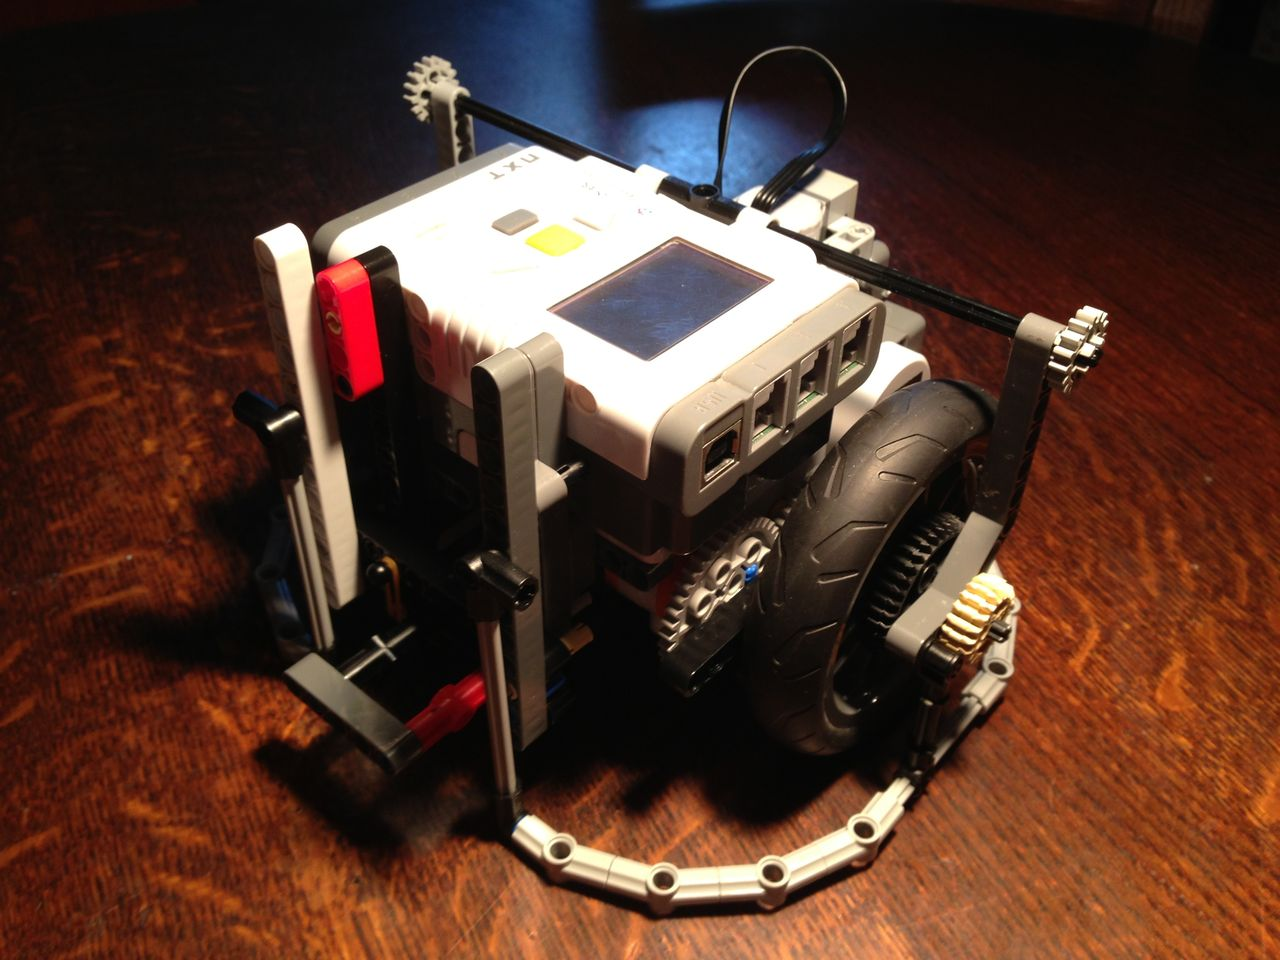Robot: (197, 11, 1131, 928)
